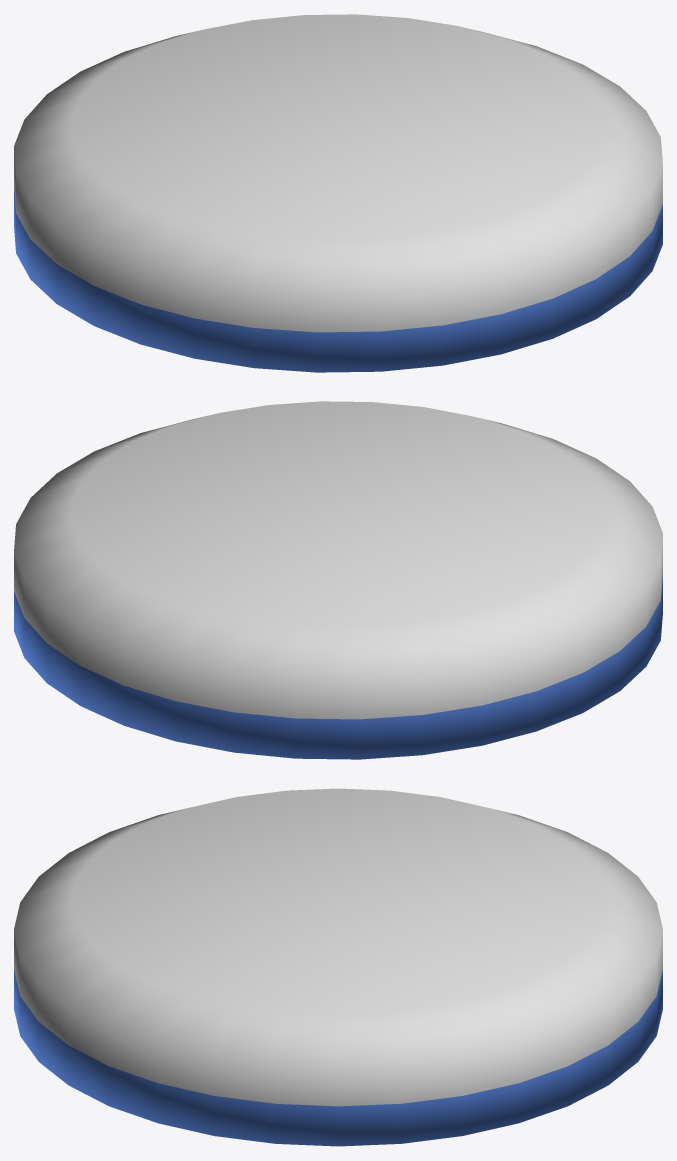
The model's file is hospitalLight.fbx.
3 renders of one model, top to bottom at view 1: azimuth 30°, elevation 25°; view 2: azimuth 150°, elevation 25°; view 3: azimuth 270°, elevation 25°, orthographic.
Visible parts, largest first — view 1: Cylinder; view 2: Cylinder; view 3: Cylinder.
Boxes of the visible parts, x1,y1,x2,y2 form: Cylinder: (14,14,662,372); Cylinder: (14,401,662,759); Cylinder: (14,788,662,1146).
Bounding box in the file's own units: 443 × 81.4 × 443.
